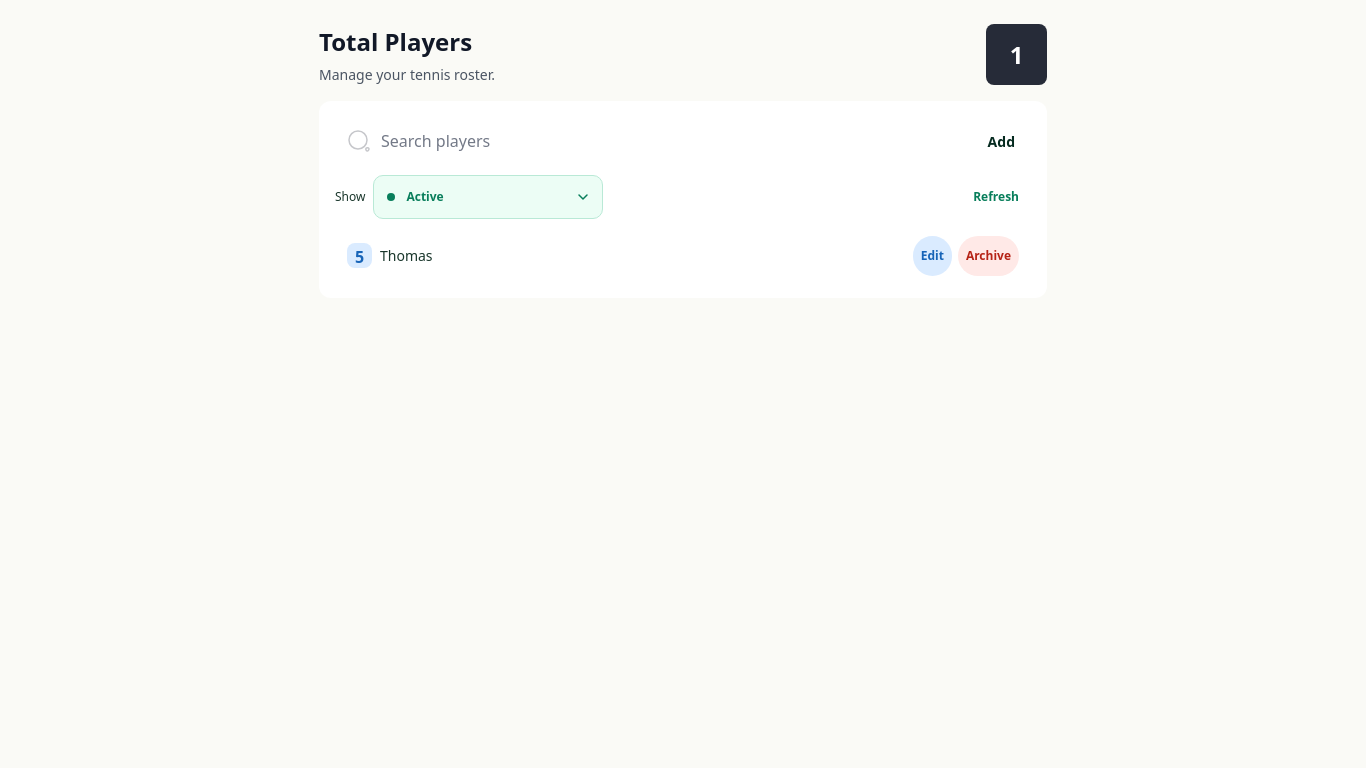
edit failure retains fields and pending submission prevents duplicate writes
This screenshot has width=1366, height=768.
Click the button with aria-label "Edit Thomas" at {"x": 932, "y": 256}, box x1=913 y1=236 x2=952 y2=276
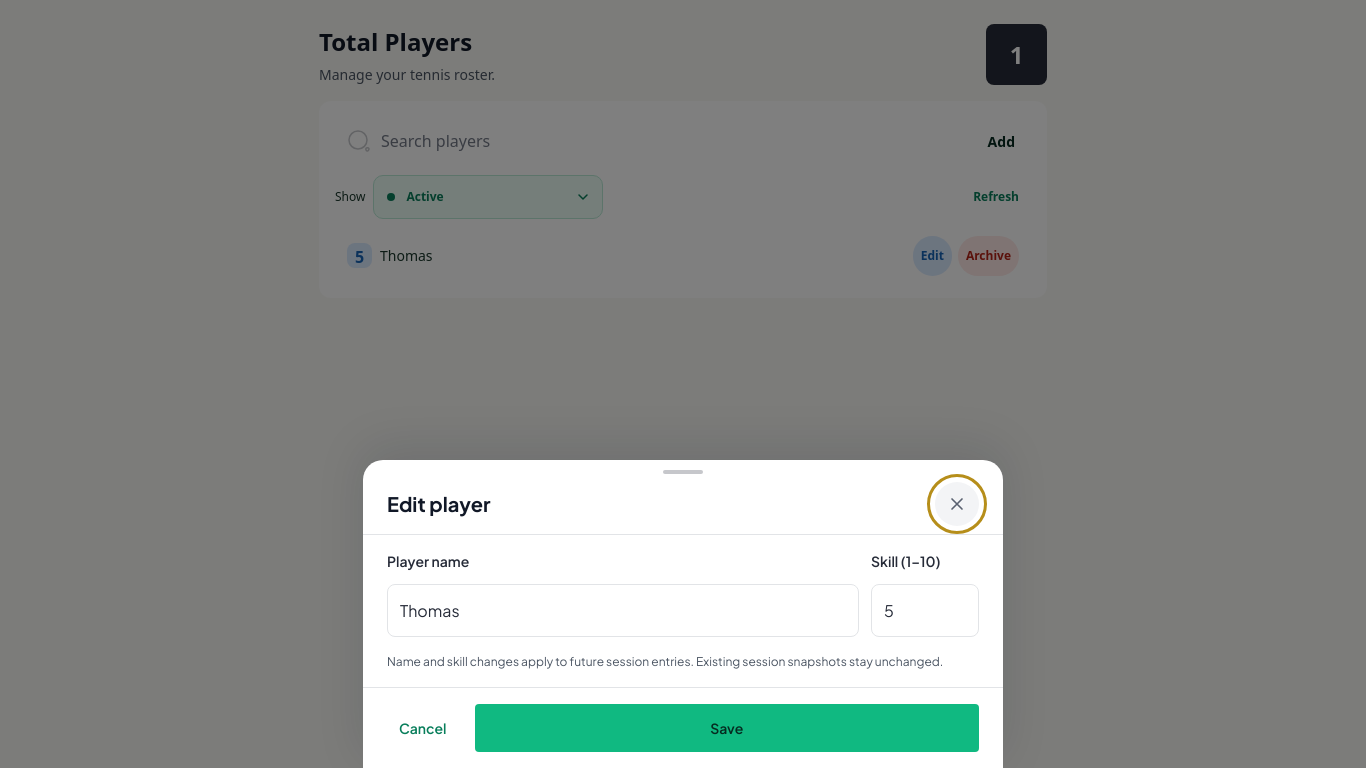
Replace the text in the field labelled "Player name" with "Tom" at {"x": 623, "y": 610}, box x1=387 y1=584 x2=859 y2=637
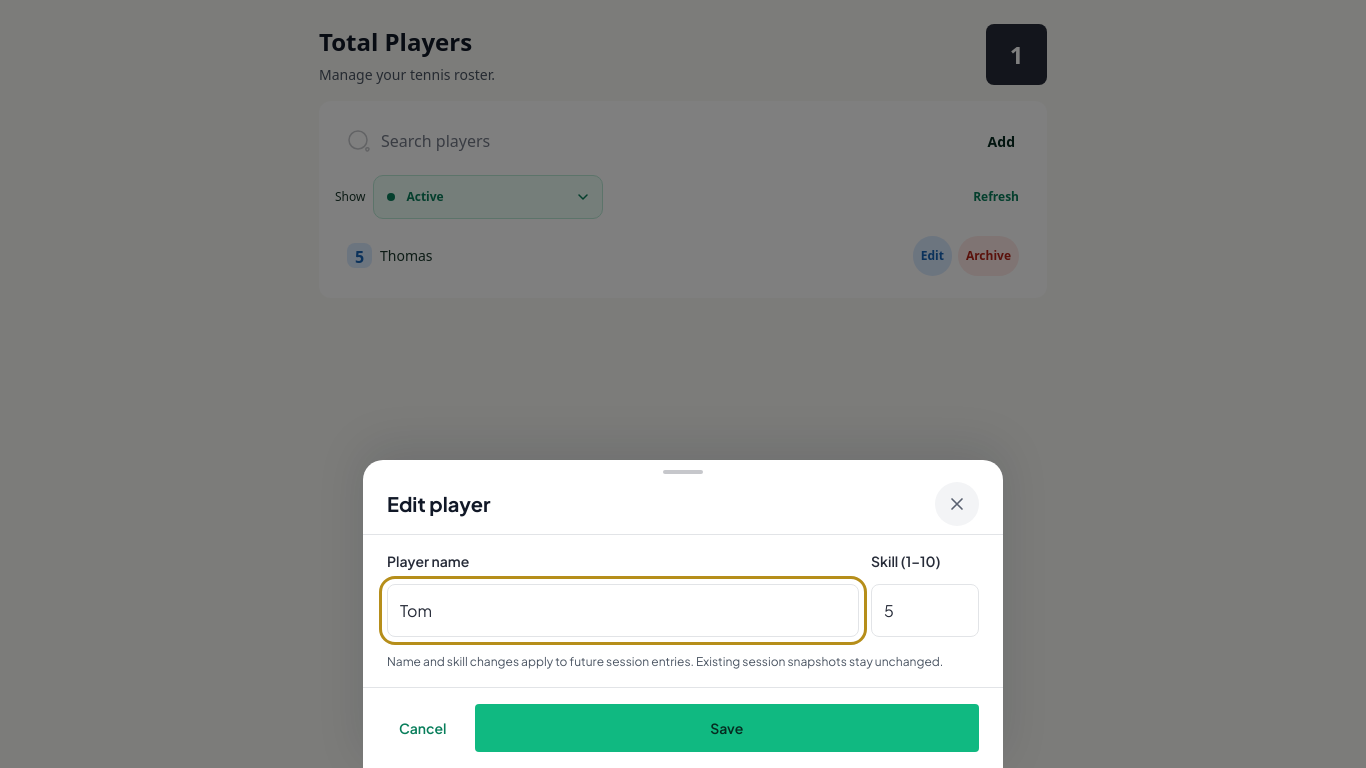
Click the button "Save" at {"x": 727, "y": 728}, box x1=474 y1=704 x2=979 y2=752
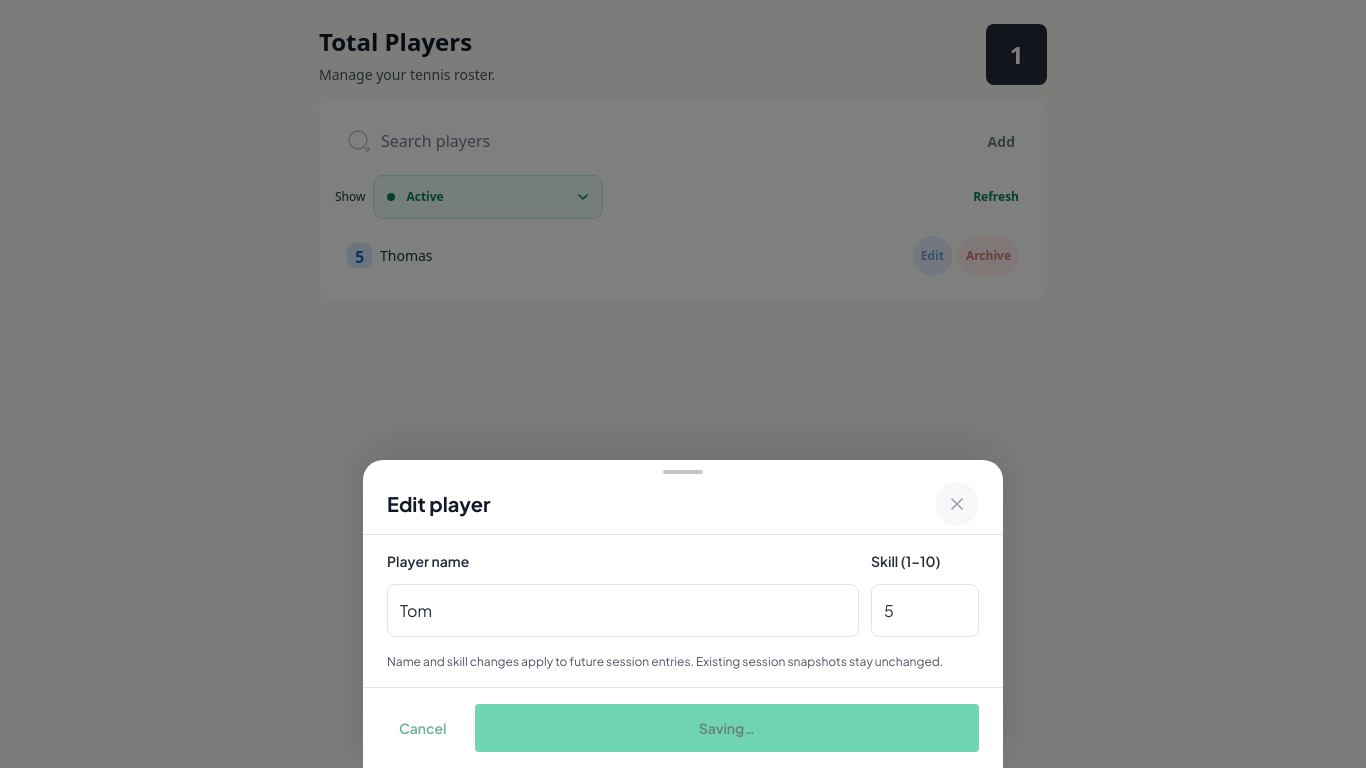
Click the button "Saving…" at {"x": 727, "y": 728}, box x1=474 y1=704 x2=979 y2=752
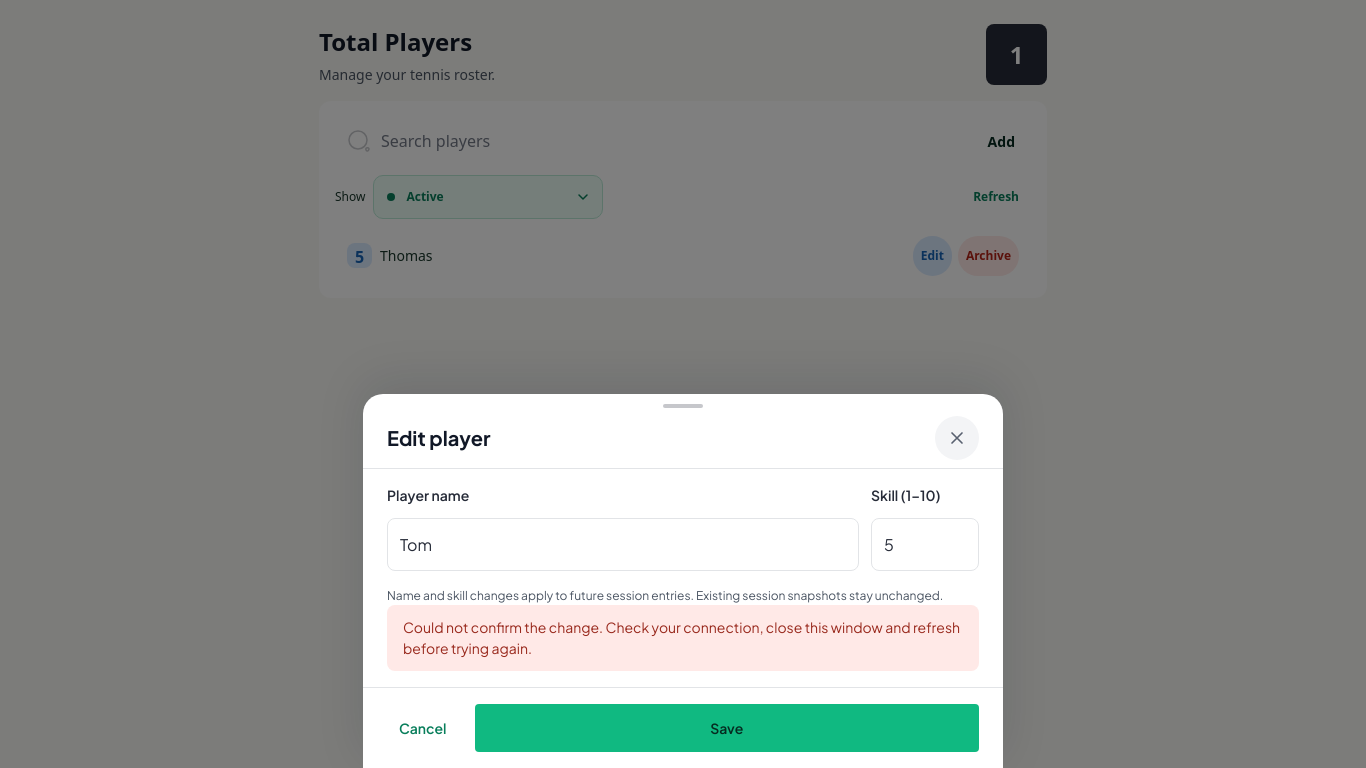
Expected: the dialog is shown, x1=363 y1=394 x2=1003 y2=767
Expected: the message is shown, x1=387 y1=605 x2=979 y2=671
